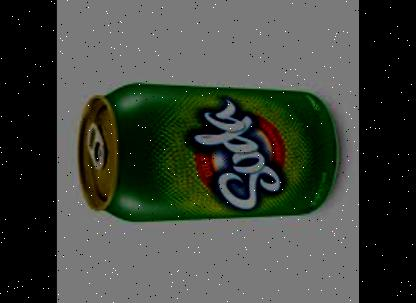Can: (79, 81, 336, 222)
